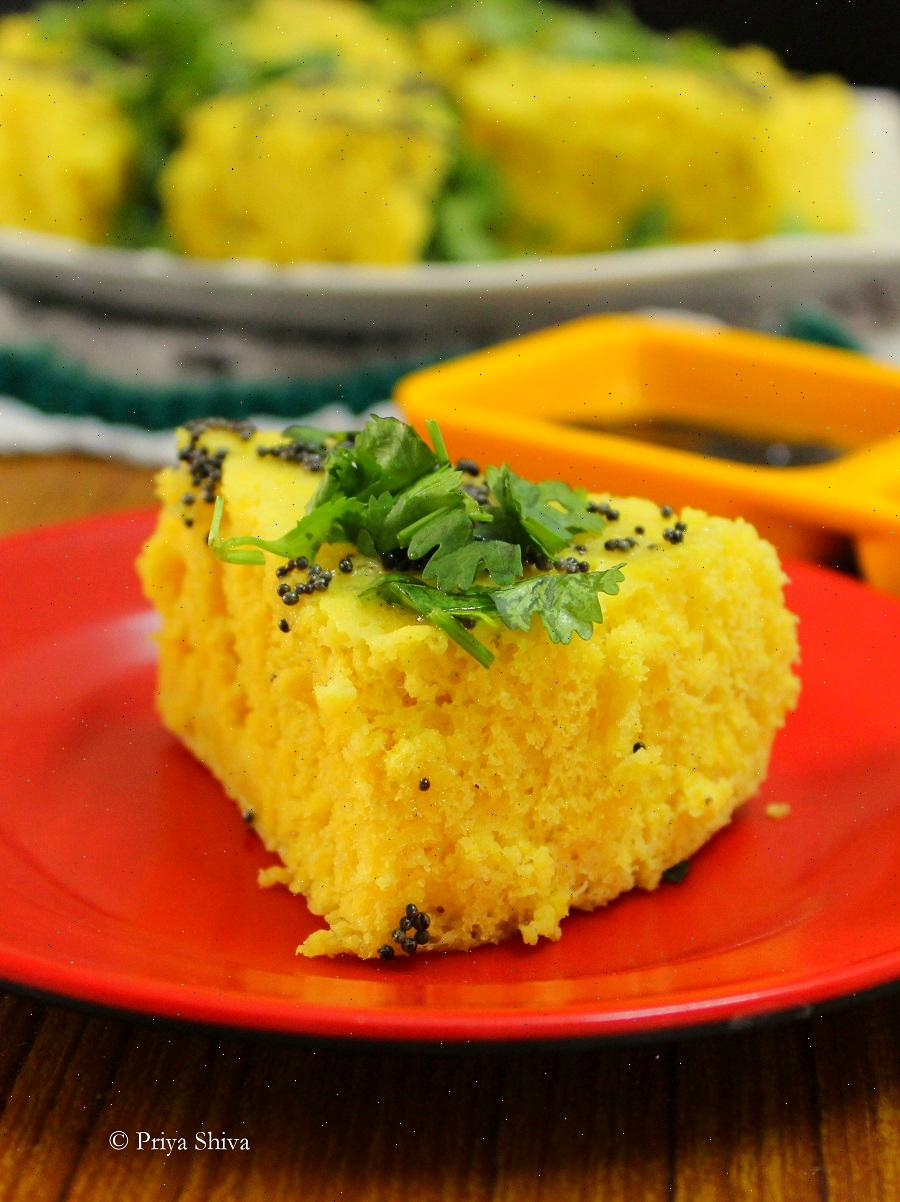yellow dhokla: (126, 387, 806, 986)
